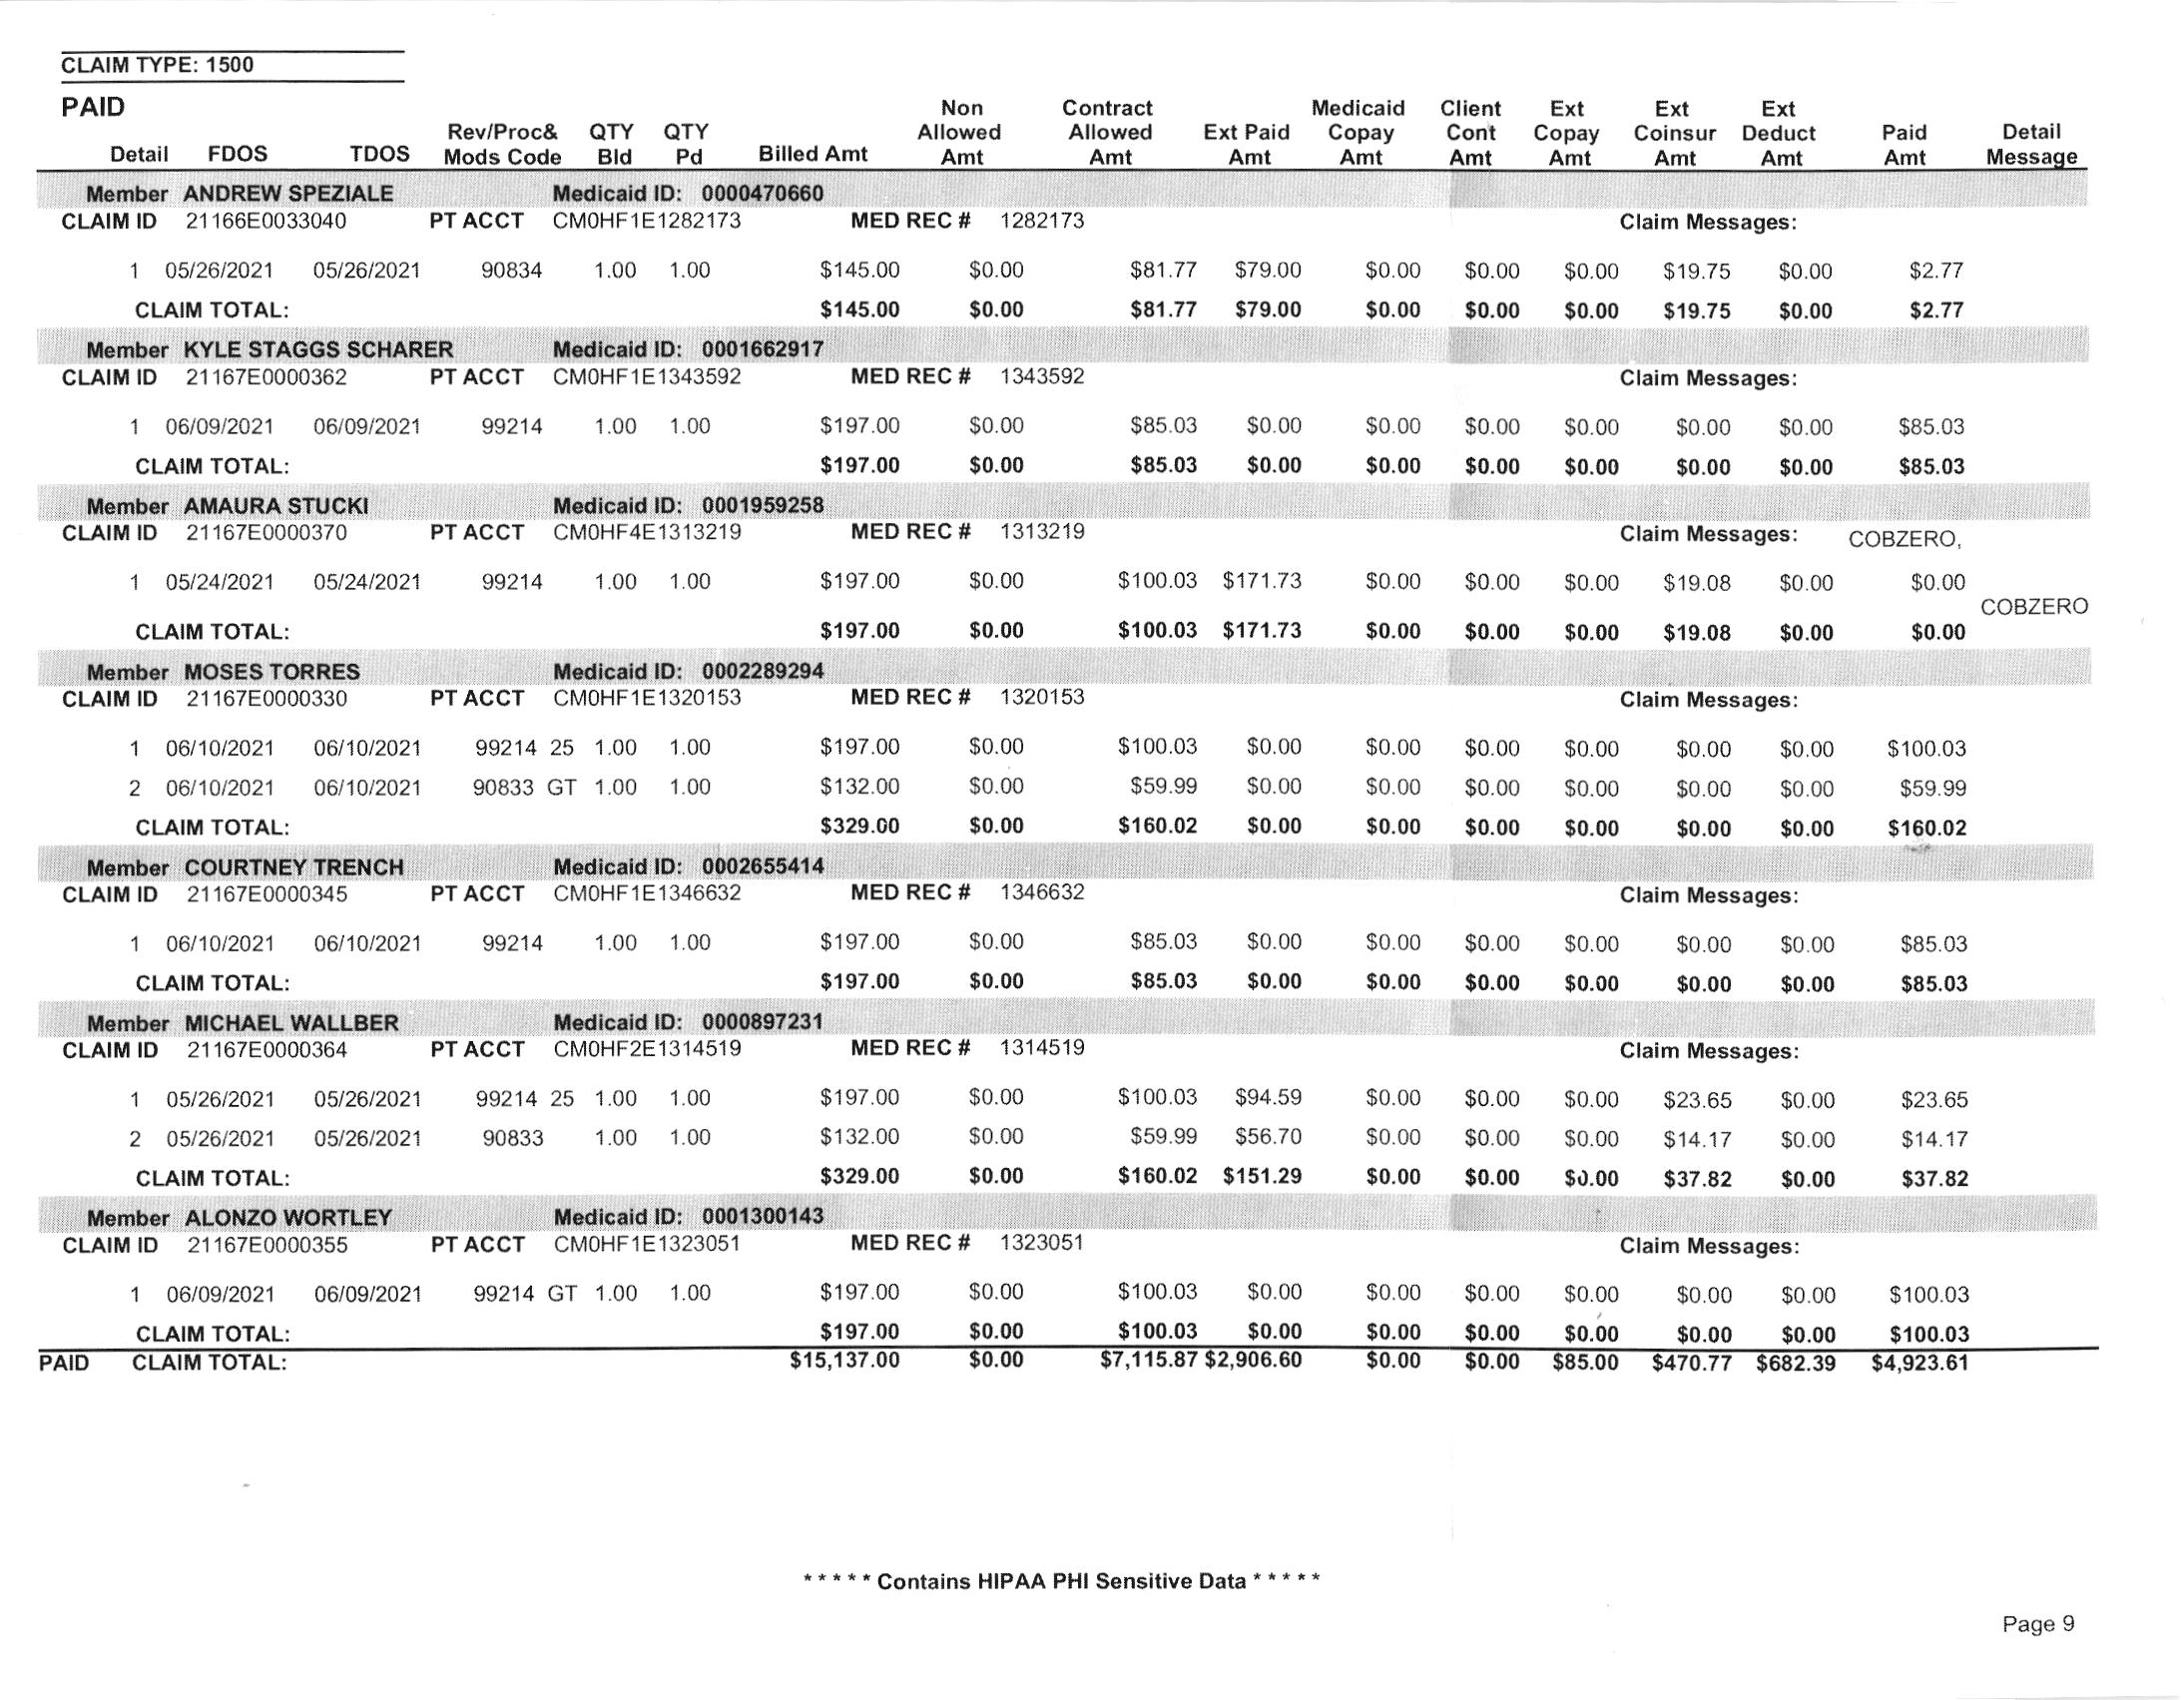table: (27, 90, 2106, 1402)
